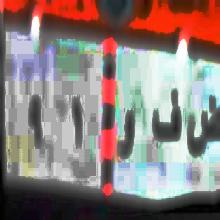1: (68, 92, 86, 153)
9: (27, 91, 46, 159)
daad: (188, 85, 220, 154)
faa: (150, 86, 182, 150)
waw: (116, 104, 136, 166)
